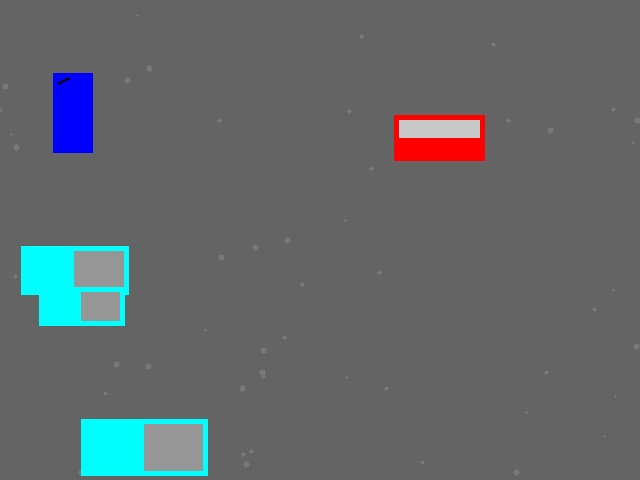car: (394, 115, 484, 160)
motorcycle: (53, 73, 92, 152)
truck: (81, 419, 207, 475), (21, 246, 128, 294), (39, 287, 124, 325)
